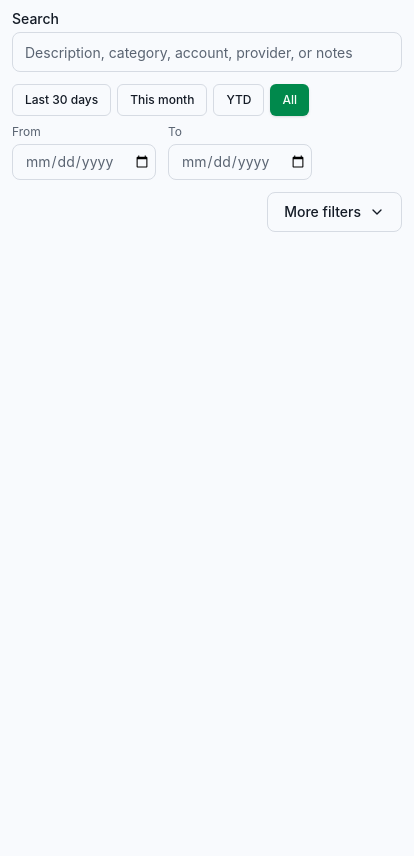
TransactionFilterBar progressive disclosure › keeps every filter control reachable when expanded without changing labels
Click the button "More filters" at (335, 212), box x1=267 y1=192 x2=402 y2=232
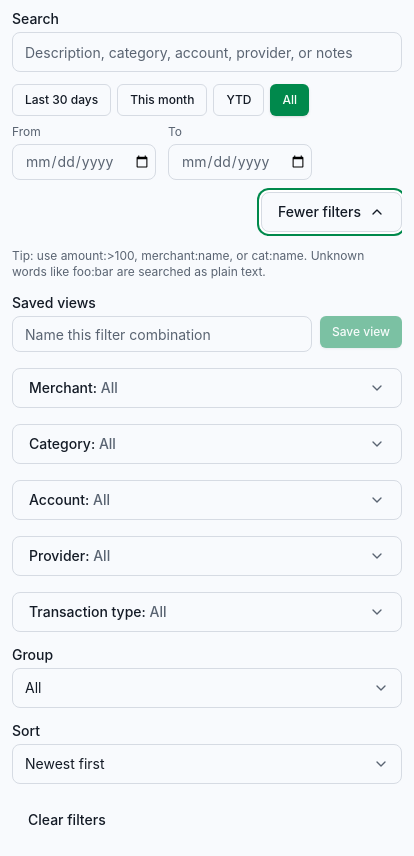
Now the field labelled "Saved views" is shown, box x1=12 y1=316 x2=312 y2=352
Now the button "Save view" is shown, box x1=320 y1=316 x2=402 y2=348
Now the button "Merchant: All" is shown, box x1=12 y1=368 x2=402 y2=408
